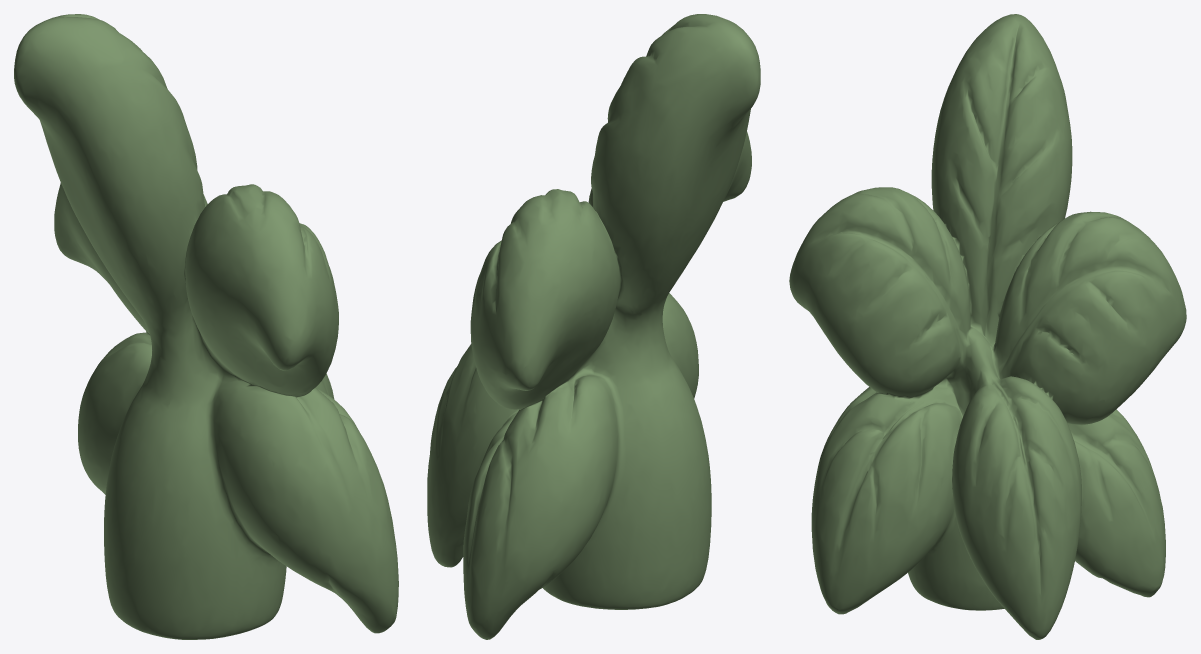
File: basil-bundle.glb
3 views of the same model, side by side, from view 1: azimuth 30°, elevation 25°; view 2: azimuth 150°, elevation 25°; view 3: azimuth 270°, elevation 25° (orthographic). The views are drawn at different scales.
Visible parts, largest first — view 1: tripo_printable_source; view 2: tripo_printable_source; view 3: tripo_printable_source.
Boxes of the visible parts, x1,y1,x2,y2 form: tripo_printable_source: [14, 14, 398, 639]; tripo_printable_source: [427, 14, 760, 639]; tripo_printable_source: [789, 14, 1186, 639].
Bounding box in the file's own units: 55.62 × 100 × 70.
